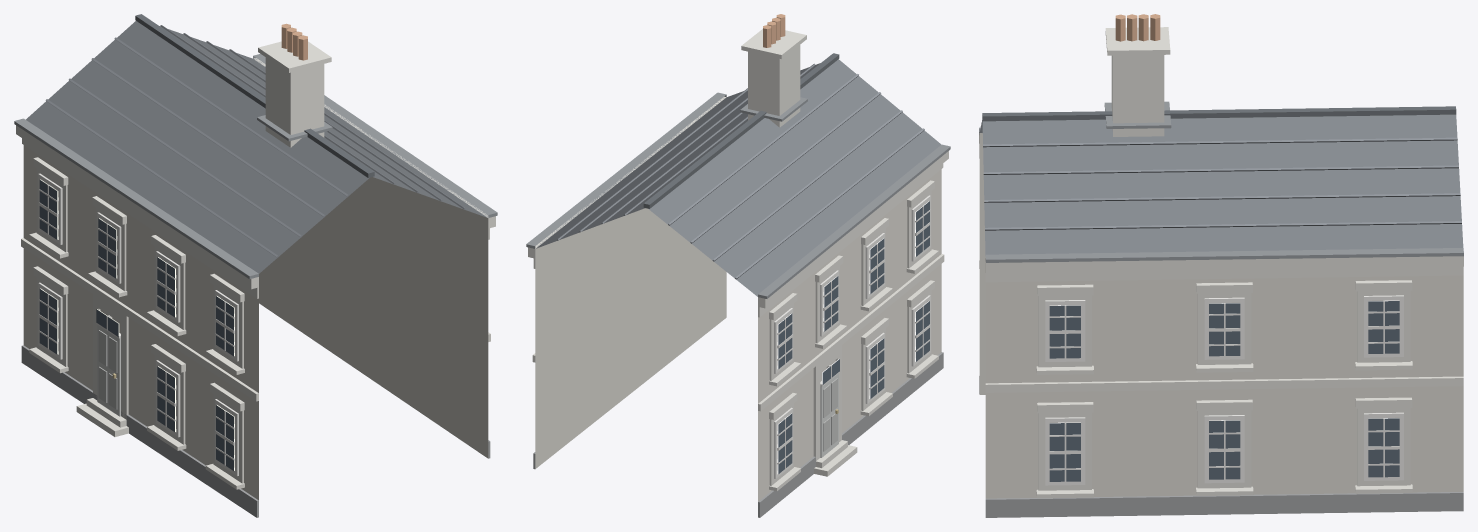
3 renders of one model, left to right at view 1: azimuth 30°, elevation 25°; view 2: azimuth 150°, elevation 25°; view 3: azimuth 270°, elevation 25°, orthographic. The views are drawn at different scales.
Parts seen in each view (by area): view 1: harl_grey, slate, string, frame, lead, slate_lt, chim_render, plinth, slate_dk, door_cad_p, window_glass_011, window_glass_013 (+7 smaller); view 2: harl_grey, slate, string, lead, slate_lt, frame, chim_render, plinth, slate_dk, door_cad_p, window_glass_007, window_glass_013 (+7 smaller); view 3: harl_grey, slate, string, plinth, frame, slate_lt, lead, chim_render, slate_dk, window_glass_005, window_glass_003, window_glass_001 (+4 smaller).
Boxes of the visible parts, bbox=[...] form: harl_grey: bbox=[23, 145, 488, 500]; slate: bbox=[26, 21, 487, 273]; string: bbox=[16, 41, 495, 489]; frame: bbox=[38, 173, 238, 476]; lead: bbox=[14, 54, 497, 279]; slate_lt: bbox=[45, 25, 465, 257]; chim_render: bbox=[265, 57, 324, 147]; plinth: bbox=[21, 345, 490, 517]; slate_dk: bbox=[135, 14, 374, 177]; door_cad_p: bbox=[98, 330, 117, 409]; window_glass_011: bbox=[157, 366, 175, 431]; window_glass_013: bbox=[216, 405, 234, 470]; harl_grey: bbox=[535, 169, 941, 501]; slate: bbox=[536, 59, 941, 296]; string: bbox=[528, 29, 948, 491]; lead: bbox=[526, 92, 950, 298]; slate_lt: bbox=[556, 63, 924, 279]; frame: bbox=[774, 195, 930, 478]; chim_render: bbox=[748, 45, 800, 127]; plinth: bbox=[533, 352, 943, 517]; slate_dk: bbox=[643, 53, 839, 208]; door_cad_p: bbox=[823, 378, 837, 451]; window_glass_007: bbox=[777, 413, 792, 473]; window_glass_013: bbox=[915, 301, 929, 361]; harl_grey: bbox=[979, 133, 1463, 498]; slate: bbox=[979, 114, 1463, 255]; string: bbox=[979, 27, 1463, 498]; plinth: bbox=[979, 376, 1463, 517]; frame: bbox=[1045, 295, 1403, 485]; slate_lt: bbox=[980, 121, 1461, 230]; lead: bbox=[979, 101, 1463, 262]; chim_render: bbox=[1111, 55, 1164, 136]; slate_dk: bbox=[982, 106, 1456, 121]; window_glass_005: bbox=[1368, 418, 1399, 477]; window_glass_003: bbox=[1209, 420, 1240, 479]; window_glass_001: bbox=[1049, 422, 1080, 481].
Size of the model in its own units: 7.53 by 10.77 by 10.86.
